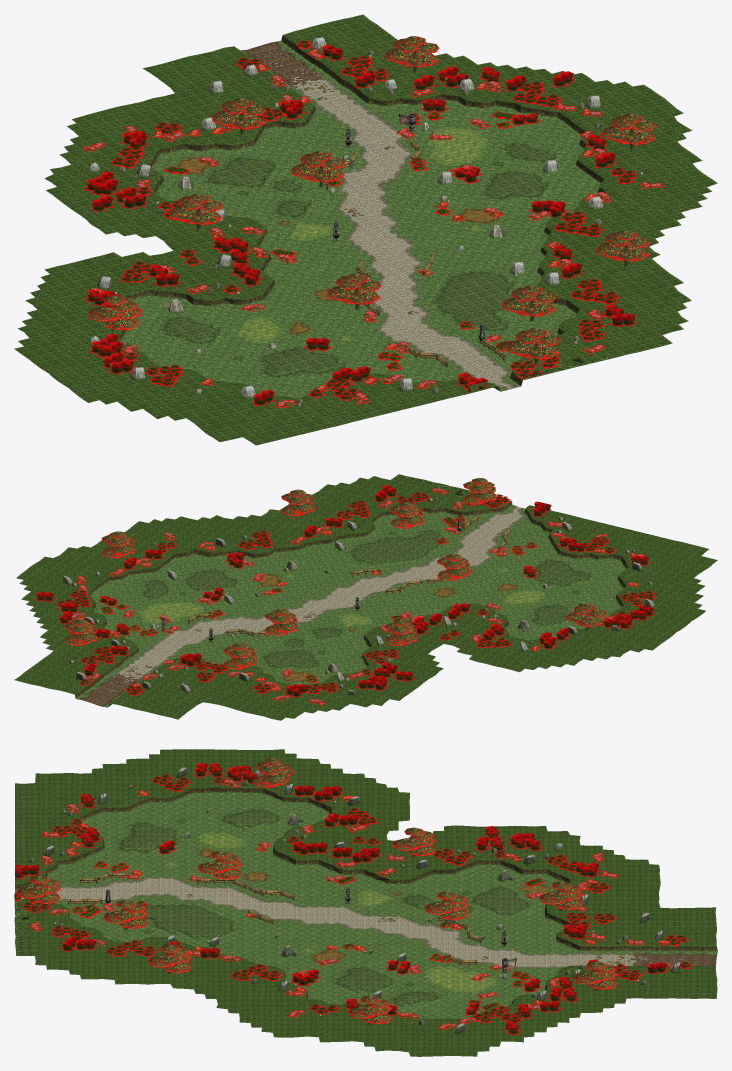
The model's file is MilchMainRoad3.obj.
3 views of the same model, one above another, from view 1: azimuth 30°, elevation 25°; view 2: azimuth 150°, elevation 25°; view 3: azimuth 270°, elevation 25° (orthographic). The views are drawn at different scales.
Visible parts, largest first — view 1: Object.007; view 2: Object.007; view 3: Object.007.
Boxes of the visible parts, x1,y1,x2,y2 form: Object.007: [14, 14, 717, 445]; Object.007: [14, 474, 717, 720]; Object.007: [14, 749, 717, 1056].
Bounding box in the file's own units: 128 × 8.51 × 124.
18 materials, 18 textured.
